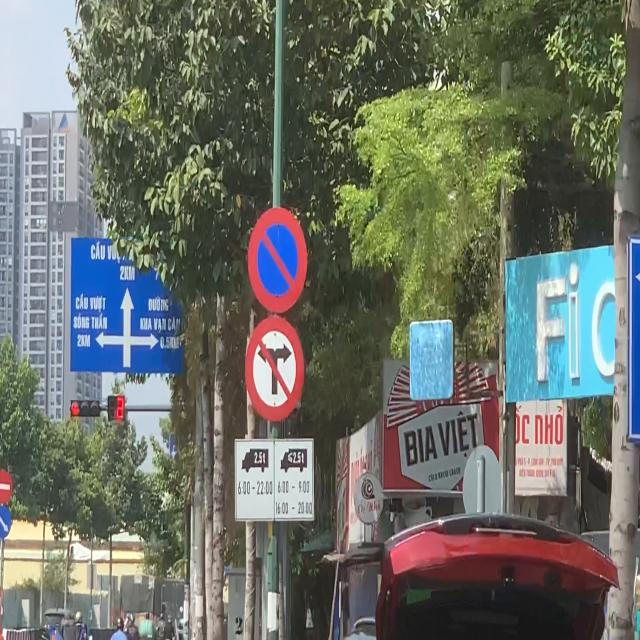Cam con lai: (244, 316, 305, 422)
Cam do: (248, 207, 308, 314)
Cam nguoc chieu: (0, 469, 12, 504)
Hieu lenh: (0, 503, 11, 539)
